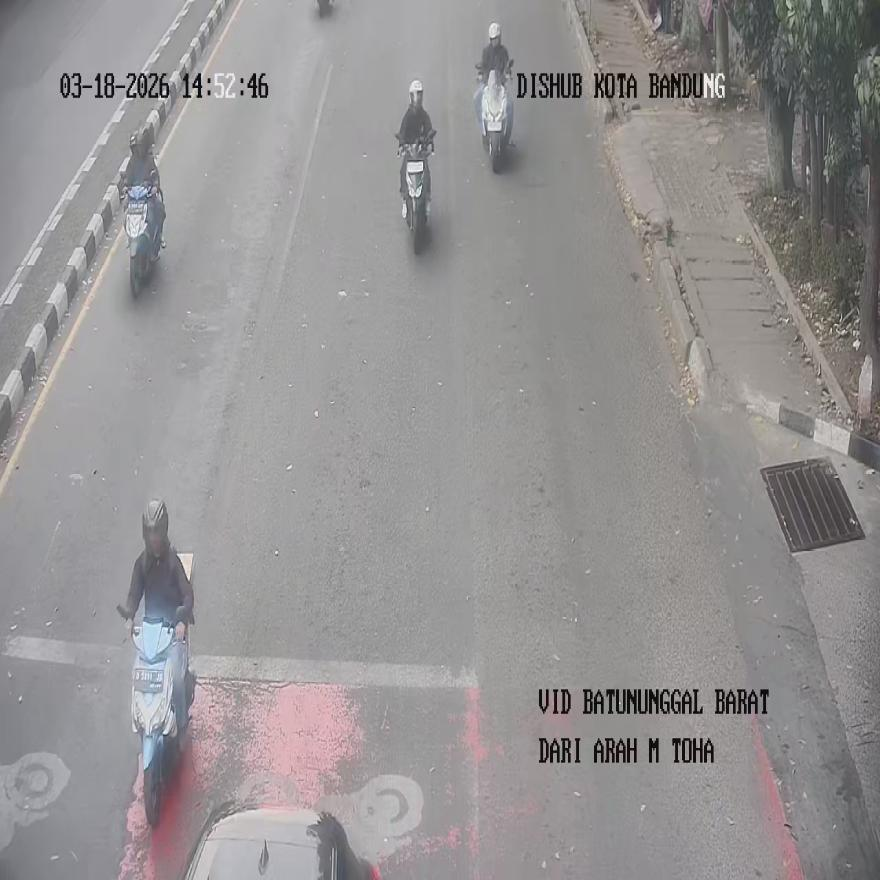Truk: (124, 608, 195, 828), (124, 183, 163, 297), (475, 59, 513, 171), (397, 134, 432, 253)
